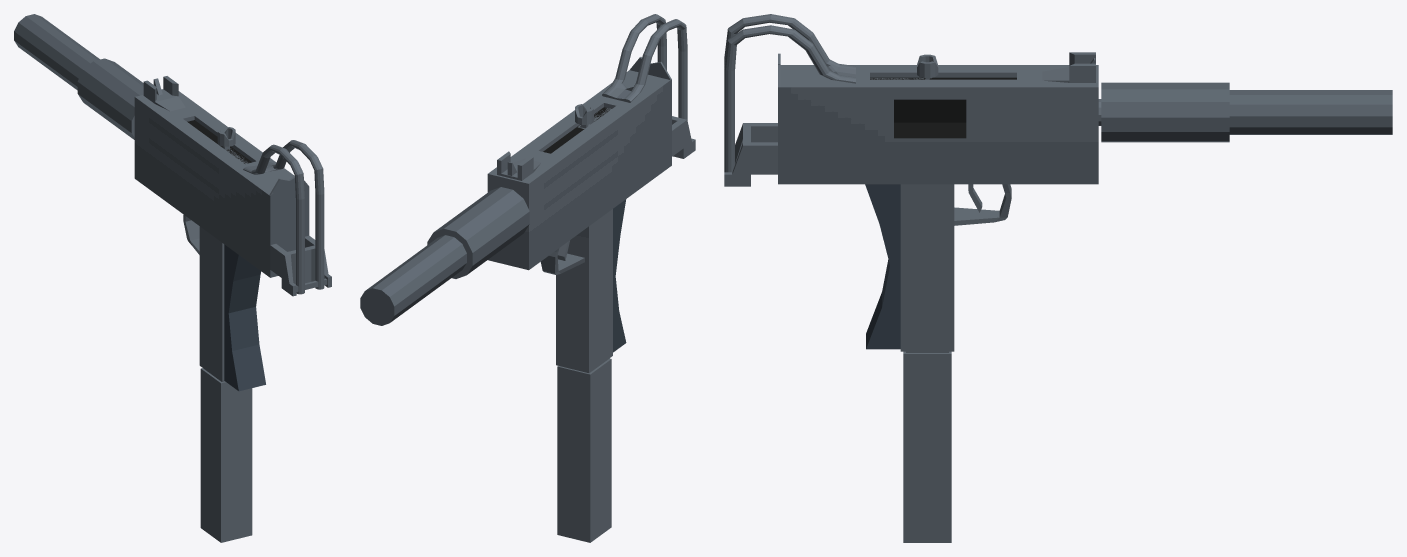
3 views of the same model, side by side, from view 1: azimuth 30°, elevation 25°; view 2: azimuth 150°, elevation 25°; view 3: azimuth 270°, elevation 25° (orthographic). The views are drawn at different scales.
Parts seen in each view (by area): view 1: cylinder, GripHandle, Mags, Suppressor, Stockp2, Stock, IronSight, Bolt; view 2: cylinder, Mags, GripHandle, Suppressor, Stockp2, IronSight, Stock, Bolt; view 3: cylinder, Suppressor, GripHandle, Mags, Stockp2, Stock, IronSight.
Part boxes in pixels (x1,y1,x2,y2): cylinder: (134, 91, 309, 277); GripHandle: (183, 214, 265, 391); Mags: (200, 368, 252, 542); Suppressor: (14, 14, 143, 139); Stockp2: (243, 140, 324, 294); Stock: (270, 235, 331, 296); IronSight: (143, 76, 185, 111); Bolt: (217, 127, 247, 163); cylinder: (487, 57, 671, 270); Mags: (557, 358, 611, 542); GripHandle: (540, 199, 626, 372); Suppressor: (360, 187, 529, 325); Stockp2: (602, 14, 687, 119); IronSight: (497, 151, 541, 180); Stock: (672, 116, 695, 158); Bolt: (575, 104, 611, 128); cylinder: (778, 53, 1101, 184); Suppressor: (1101, 82, 1392, 142); GripHandle: (865, 184, 1011, 351); Mags: (903, 351, 951, 542); Stockp2: (724, 14, 855, 172); Stock: (724, 123, 777, 186); IronSight: (1042, 52, 1095, 82).
Bounding box in the file's own units: 0.1375 × 1.33 × 1.56.
Materials: 1 (1 with a texture image).
